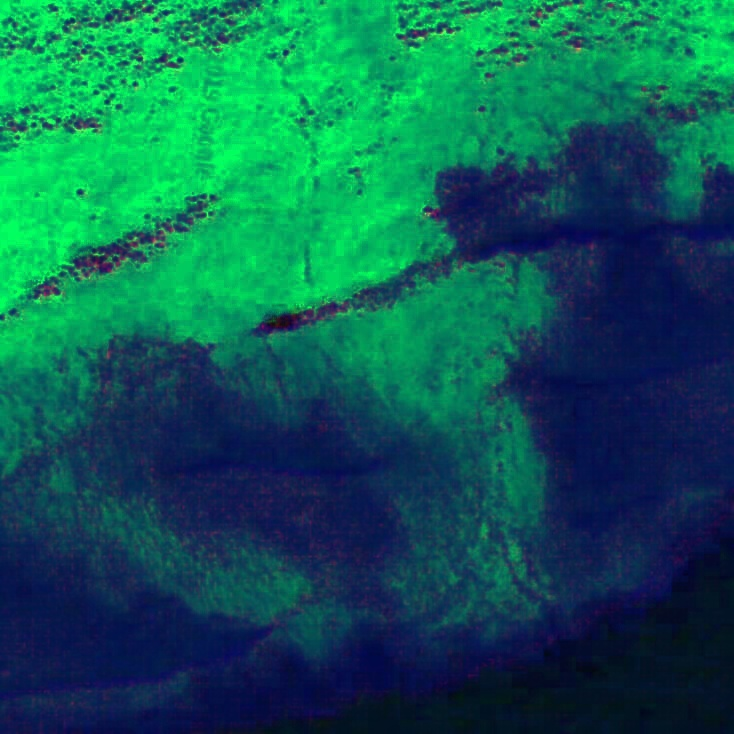rip_current: (222, 249, 609, 631)
